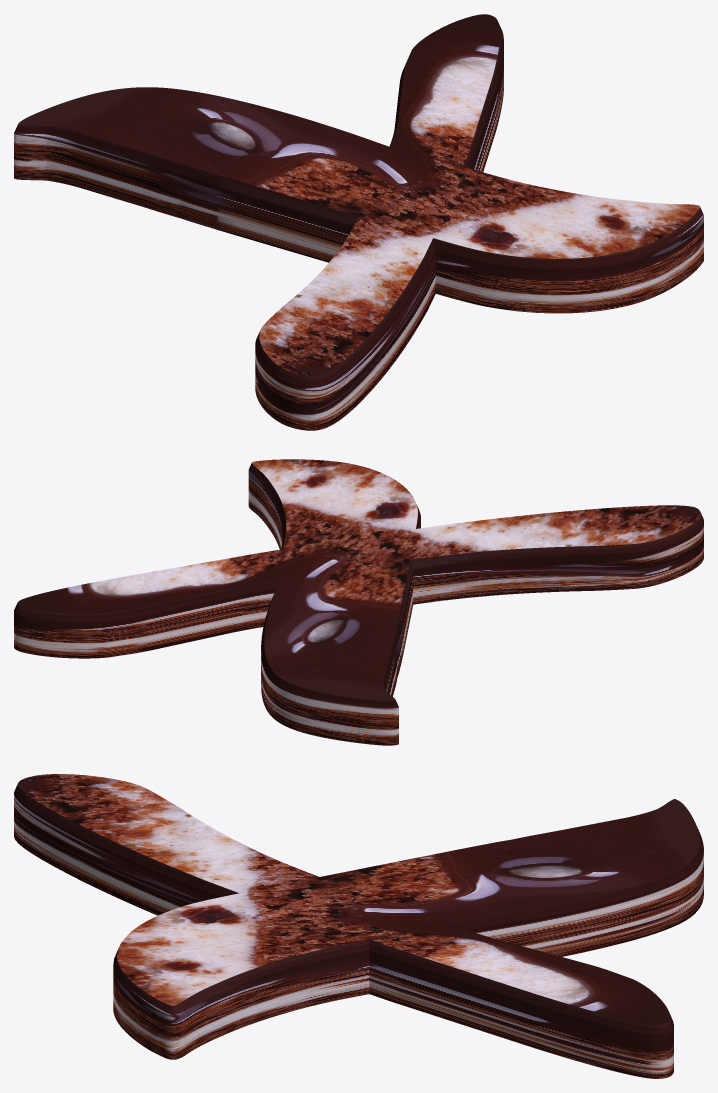
File: myX.FBX
3 renders of one model, top to bottom at view 1: azimuth 30°, elevation 25°; view 2: azimuth 150°, elevation 25°; view 3: azimuth 270°, elevation 25°, orthographic. The views are drawn at different scales.
Visible parts, largest first — view 1: myB; view 2: myB; view 3: myB.
Part boxes in pixels (left/top/right/bottom): myB: left=14, top=14, right=703, bottom=430; myB: left=14, top=459, right=703, bottom=745; myB: left=14, top=774, right=703, bottom=1078.
Size of the model in its own units: 62.4 by 6 by 71.6.
1 material, 1 textured.
